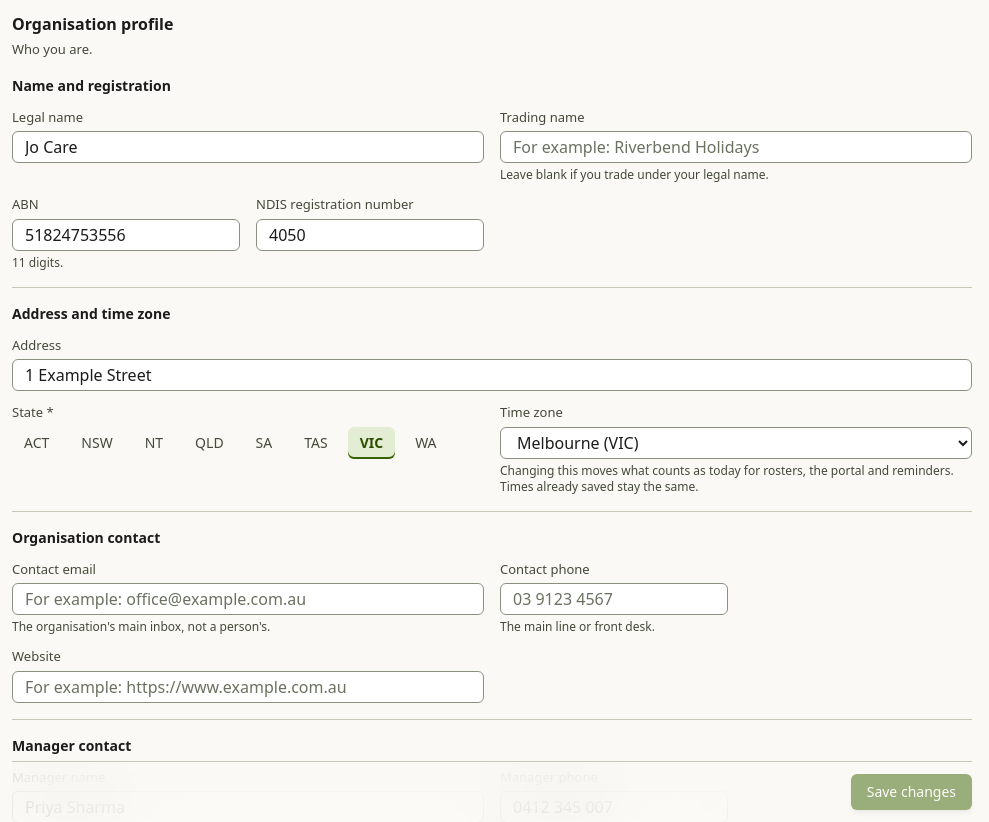
Test case: Organisation profile: time zone › moves the zone with the state while it is still that state's default
Expected: the field showing "Priya Sharma" is shown, 12,791 -> 484,821
Step 1. Click the radio button labelled "WA" → [426, 442], box 403,426 -> 449,458
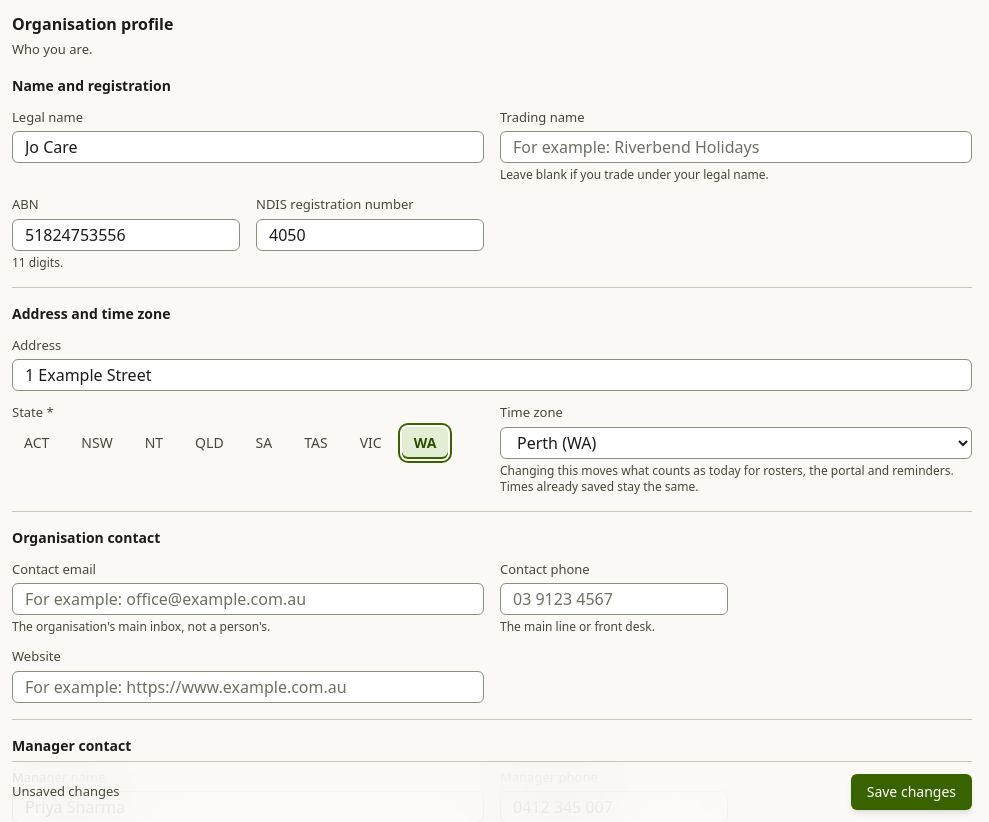
Result: the dropdown labelled "Time zone" shows "Perth (WA)" at 500,426 -> 972,458
Result: the message reads "Unsaved changes" at 12,782 -> 120,800
